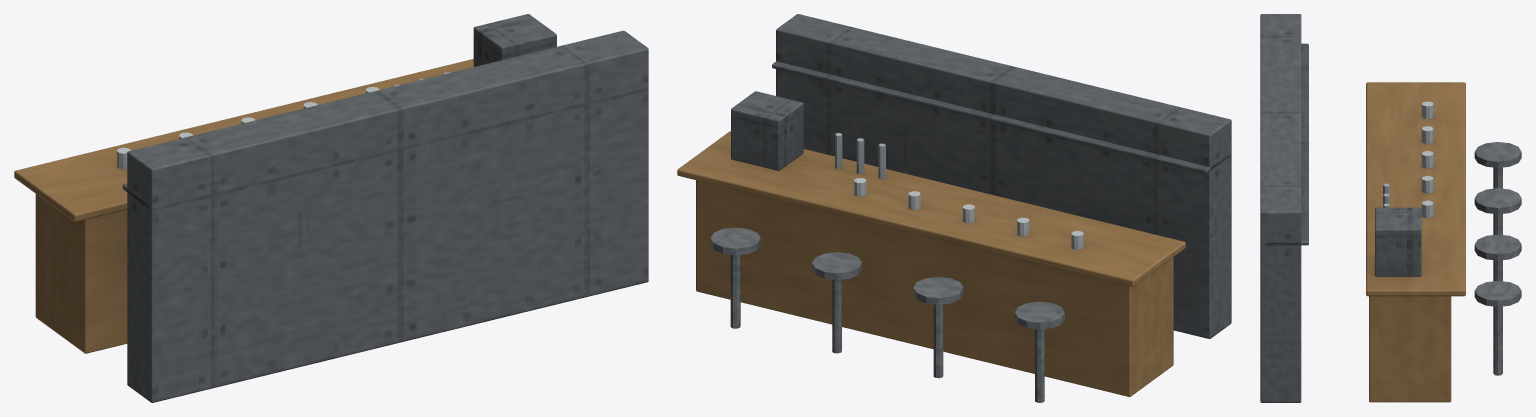
Rendered from base_bar_counter.glb.
3 views of the same model, side by side, from view 1: azimuth 30°, elevation 25°; view 2: azimuth 150°, elevation 25°; view 3: azimuth 270°, elevation 25° (orthographic). The views are drawn at different scales.
Parts seen in each view (by area): view 1: base_bar_counter; view 2: base_bar_counter; view 3: base_bar_counter.
Boxes of the visible parts, x1,y1,x2,y2 form: base_bar_counter: (14,14,648,402); base_bar_counter: (677,14,1231,402); base_bar_counter: (1260,14,1521,402).
Bounding box in the file's own units: 4.2 × 1.8 × 2.22.
5 materials, 5 textured.
